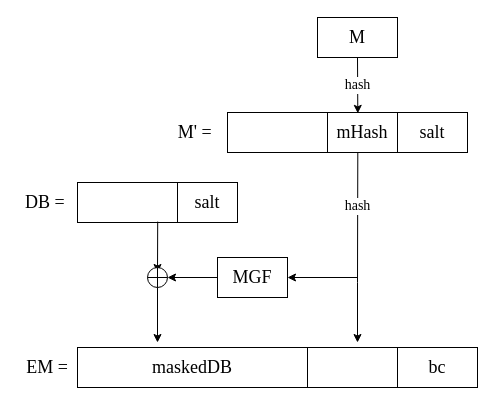
Some shapes in this 495 by 405 pixel diagram are drawn without their labels. Each missing label, with the centre of its shape:
"H'" goes at [352,367].
"Padding1" goes at [277,132].
"Padding2" goes at [127,202].
